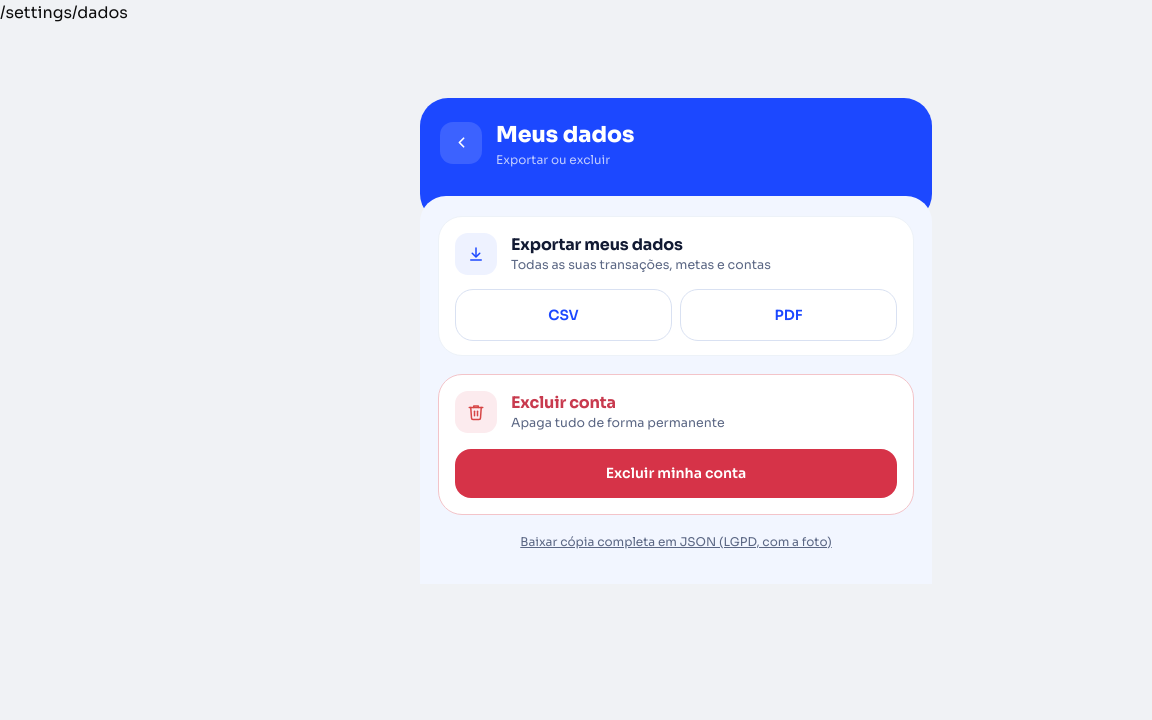
Test case: Meus dados — excluir conta › plano free: a linha "Plano cancelado — sem reembolso" aparece? false
Click the button "Excluir minha conta" at (676, 473), box [455,449,897,498]
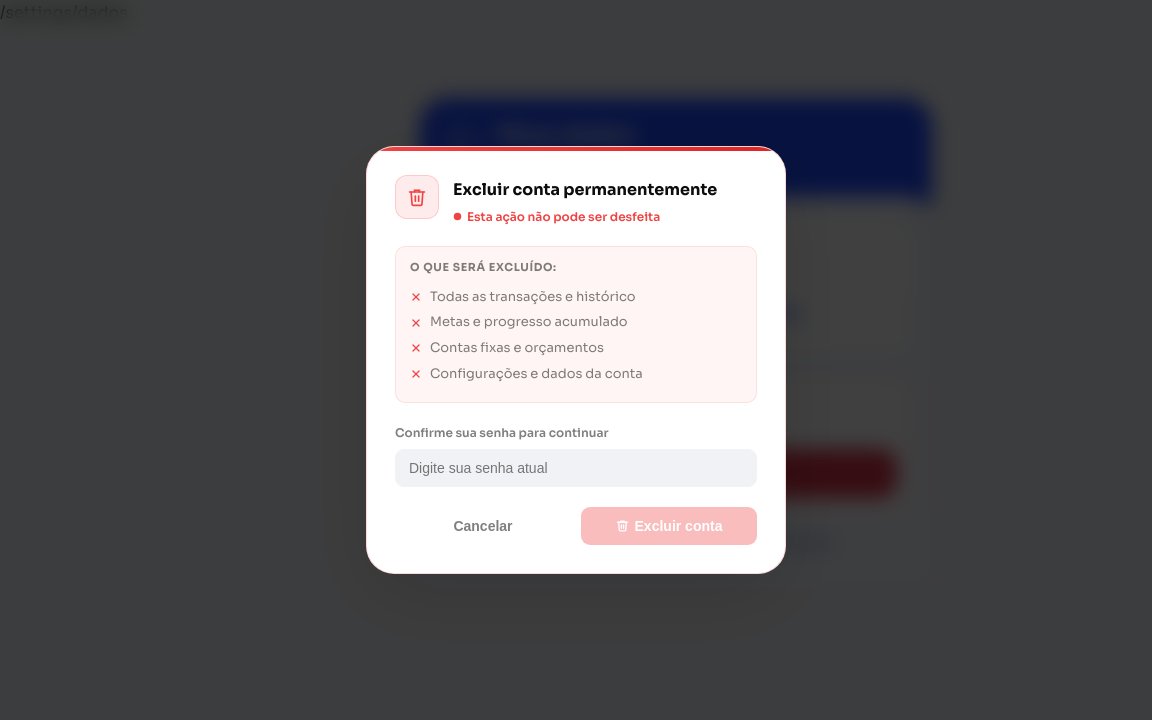
Result: the text "Todas as transações e histórico" is shown at [410,288,636,304]
